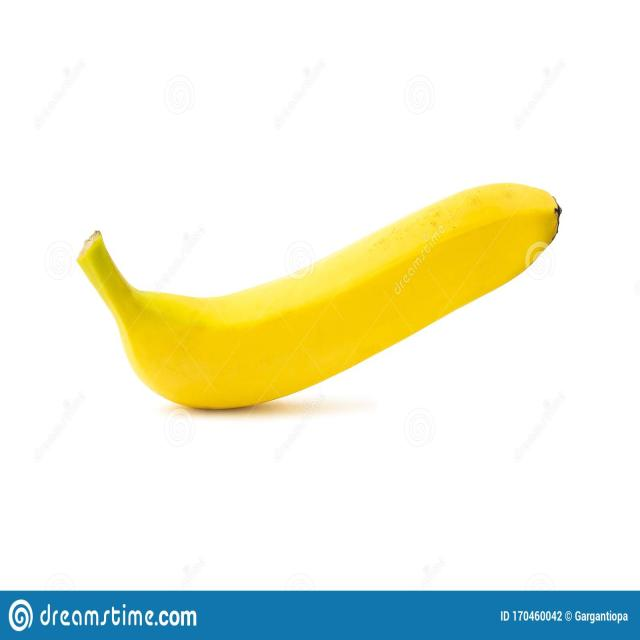non_orange: (73, 176, 560, 416)
